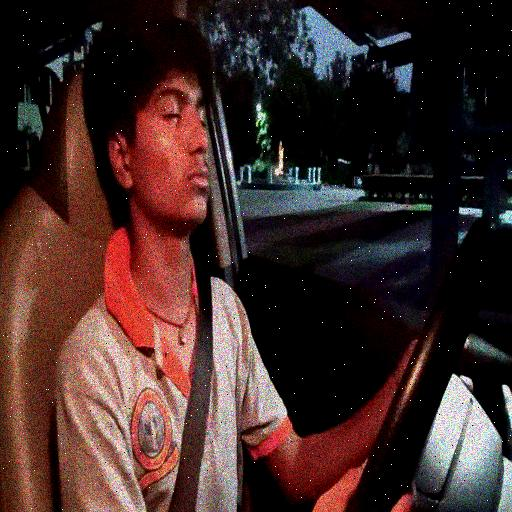sleepy: (87, 0, 215, 234)
